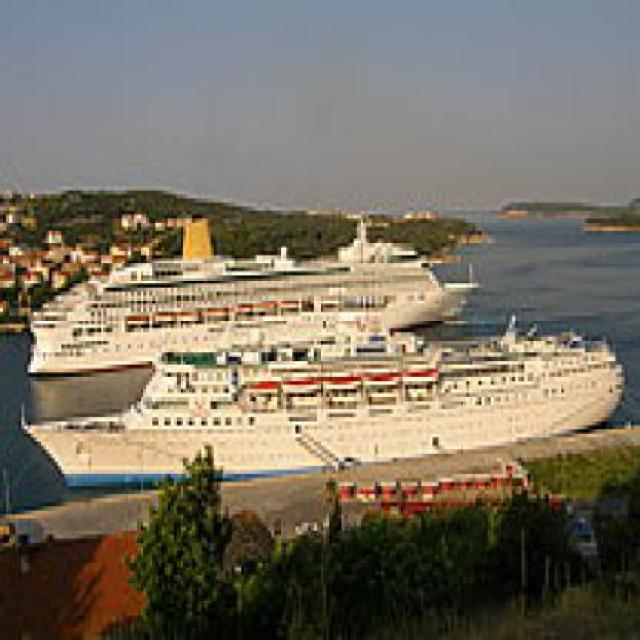cruise: (16, 346, 638, 500), (17, 212, 486, 386)
